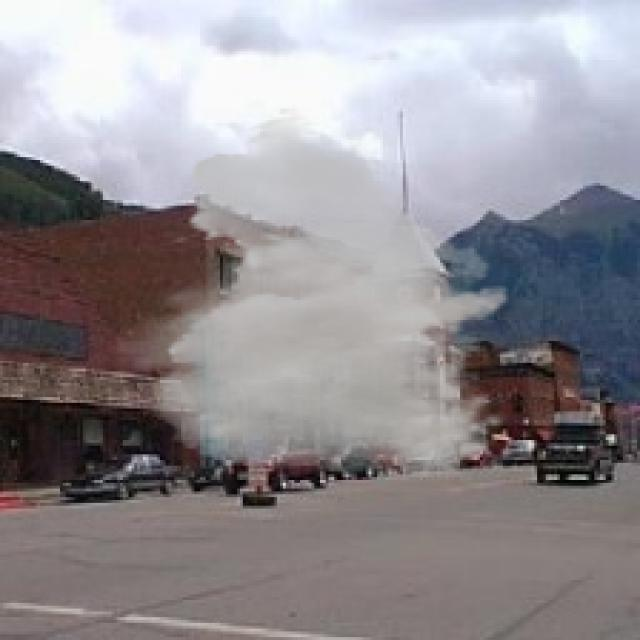Smoke: (100, 106, 512, 480)
